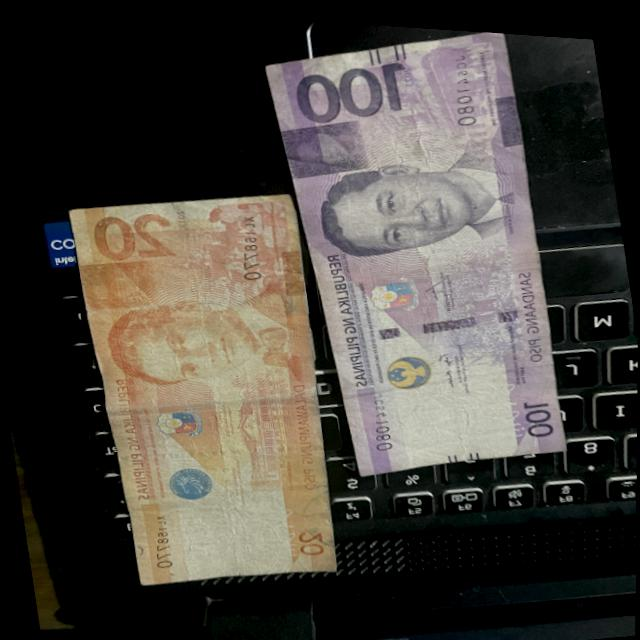concealed_value: (278, 109, 365, 180), (77, 250, 161, 314)
security_thread: (329, 279, 547, 355)
serial_number: (228, 200, 276, 286), (434, 42, 481, 125), (358, 380, 405, 456), (139, 501, 184, 576)
